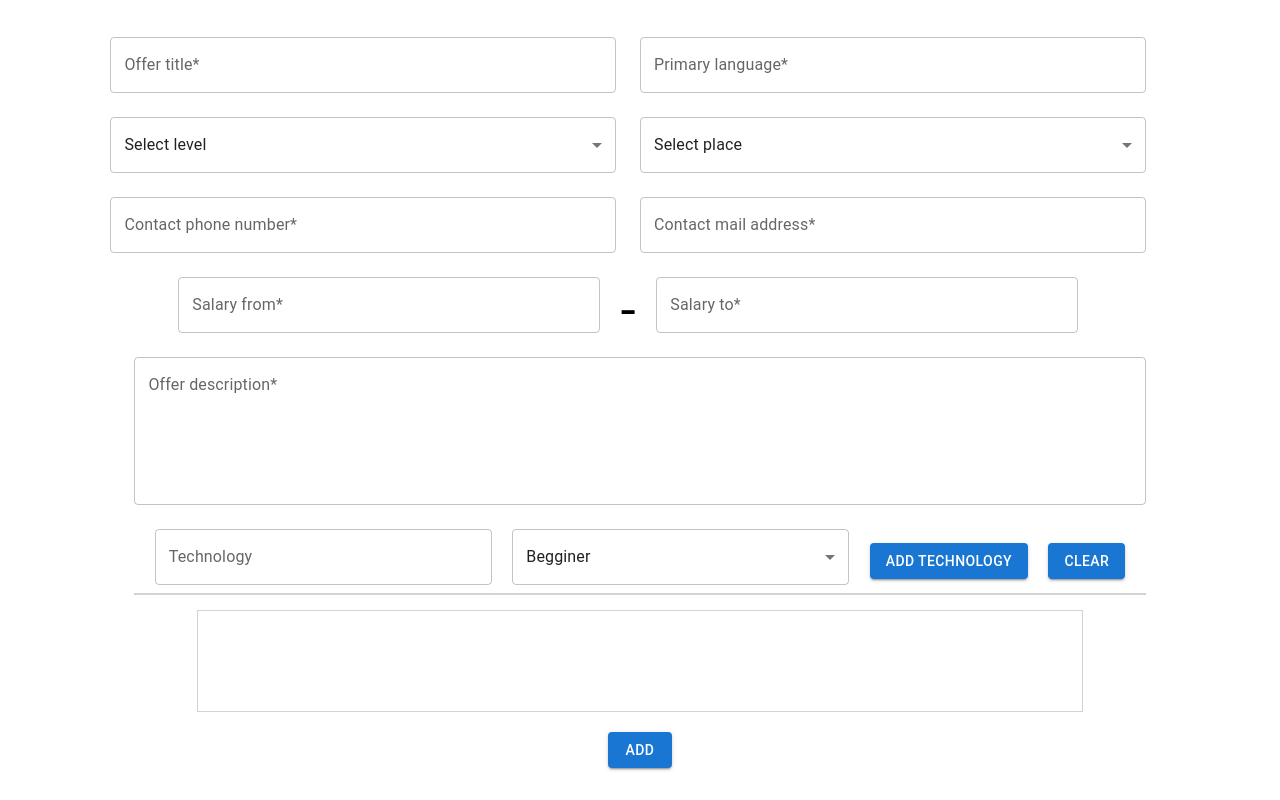
Test: AddNewOfferForm › should display errors when submitting form without required fields
This screenshot has width=1280, height=800.
(page scrolled)
Click the button "Add". click: coordinates (640, 750)
box: [608, 732, 672, 768]
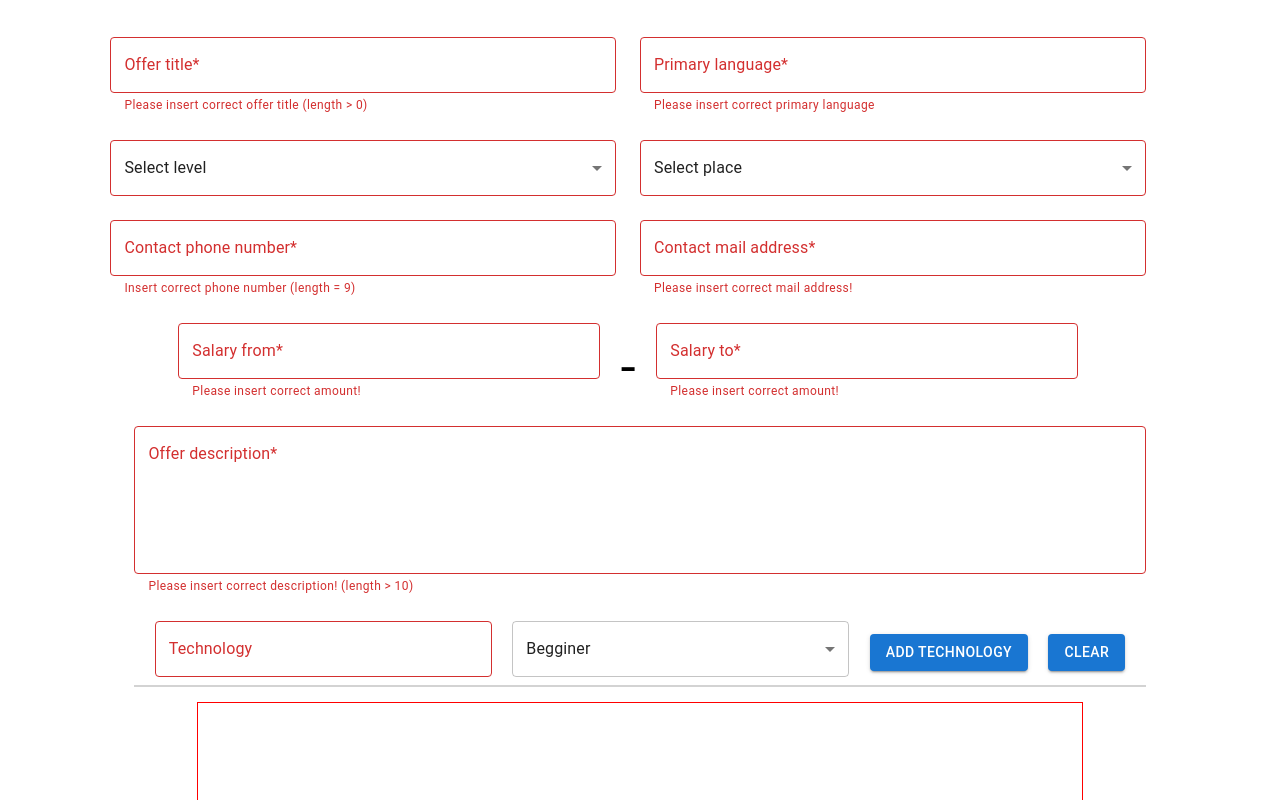
Expected: the text "Please insert correct offer title (length > 0)" is shown, [124, 98, 368, 112]
Expected: the text "Please insert correct primary language" is shown, [654, 98, 875, 112]
